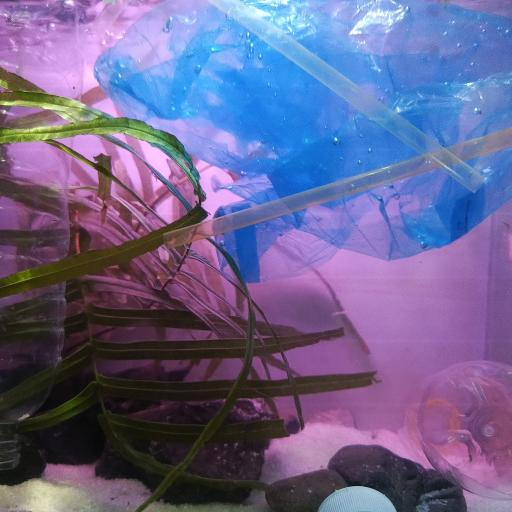bottle_cap: (316, 484, 396, 512)
plastic_bag: (95, 0, 512, 286)
plastic_bottle: (0, 0, 71, 467), (408, 359, 512, 499)
plastic_straw: (209, 0, 483, 193), (162, 128, 512, 250)
